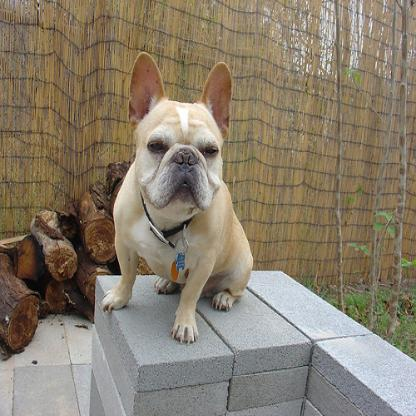French_bulldog: (98, 49, 256, 347)
